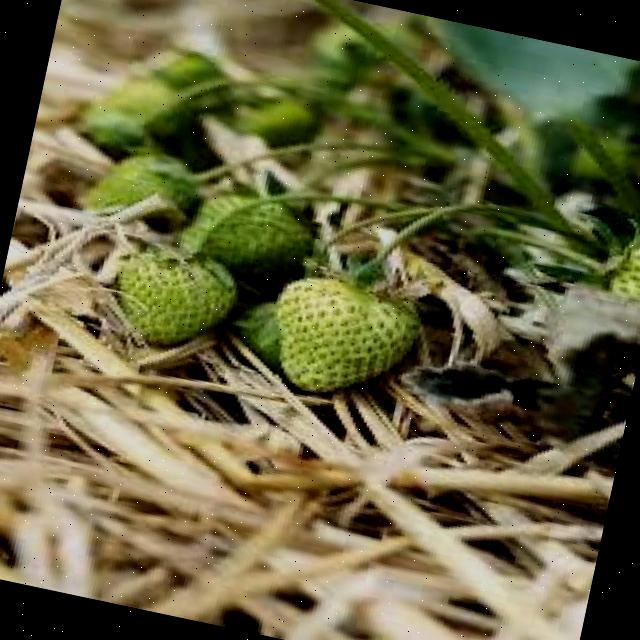unripe: (261, 268, 423, 407), (107, 238, 241, 354), (182, 182, 321, 282), (78, 141, 198, 233)
